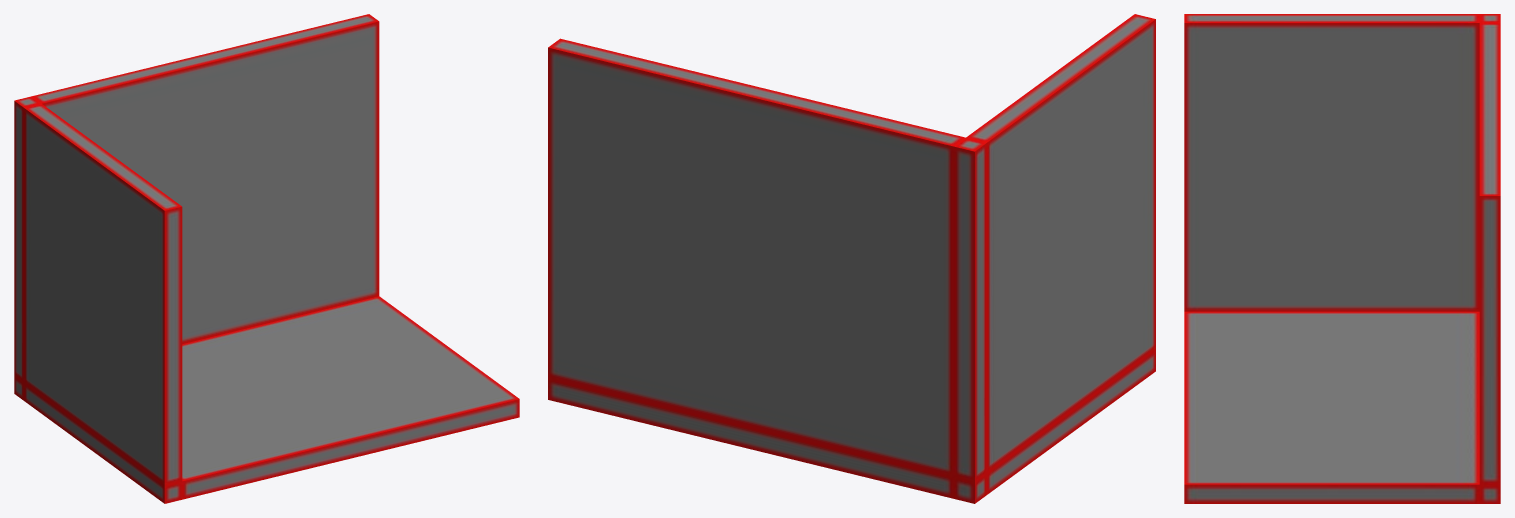
Rendered from room_3.obj.
3 renders of one model, left to right at view 1: azimuth 30°, elevation 25°; view 2: azimuth 150°, elevation 25°; view 3: azimuth 270°, elevation 25°, orthographic. The views are drawn at different scales.
Parts seen in each view (by area): view 1: room3; view 2: room3; view 3: room3.
Boxes of the visible parts, <box> form: room3: <box>14,14,519,503</box>; room3: <box>548,14,1155,503</box>; room3: <box>1184,14,1500,503</box>.
Size of the model in its own units: 406 by 320 by 298.
